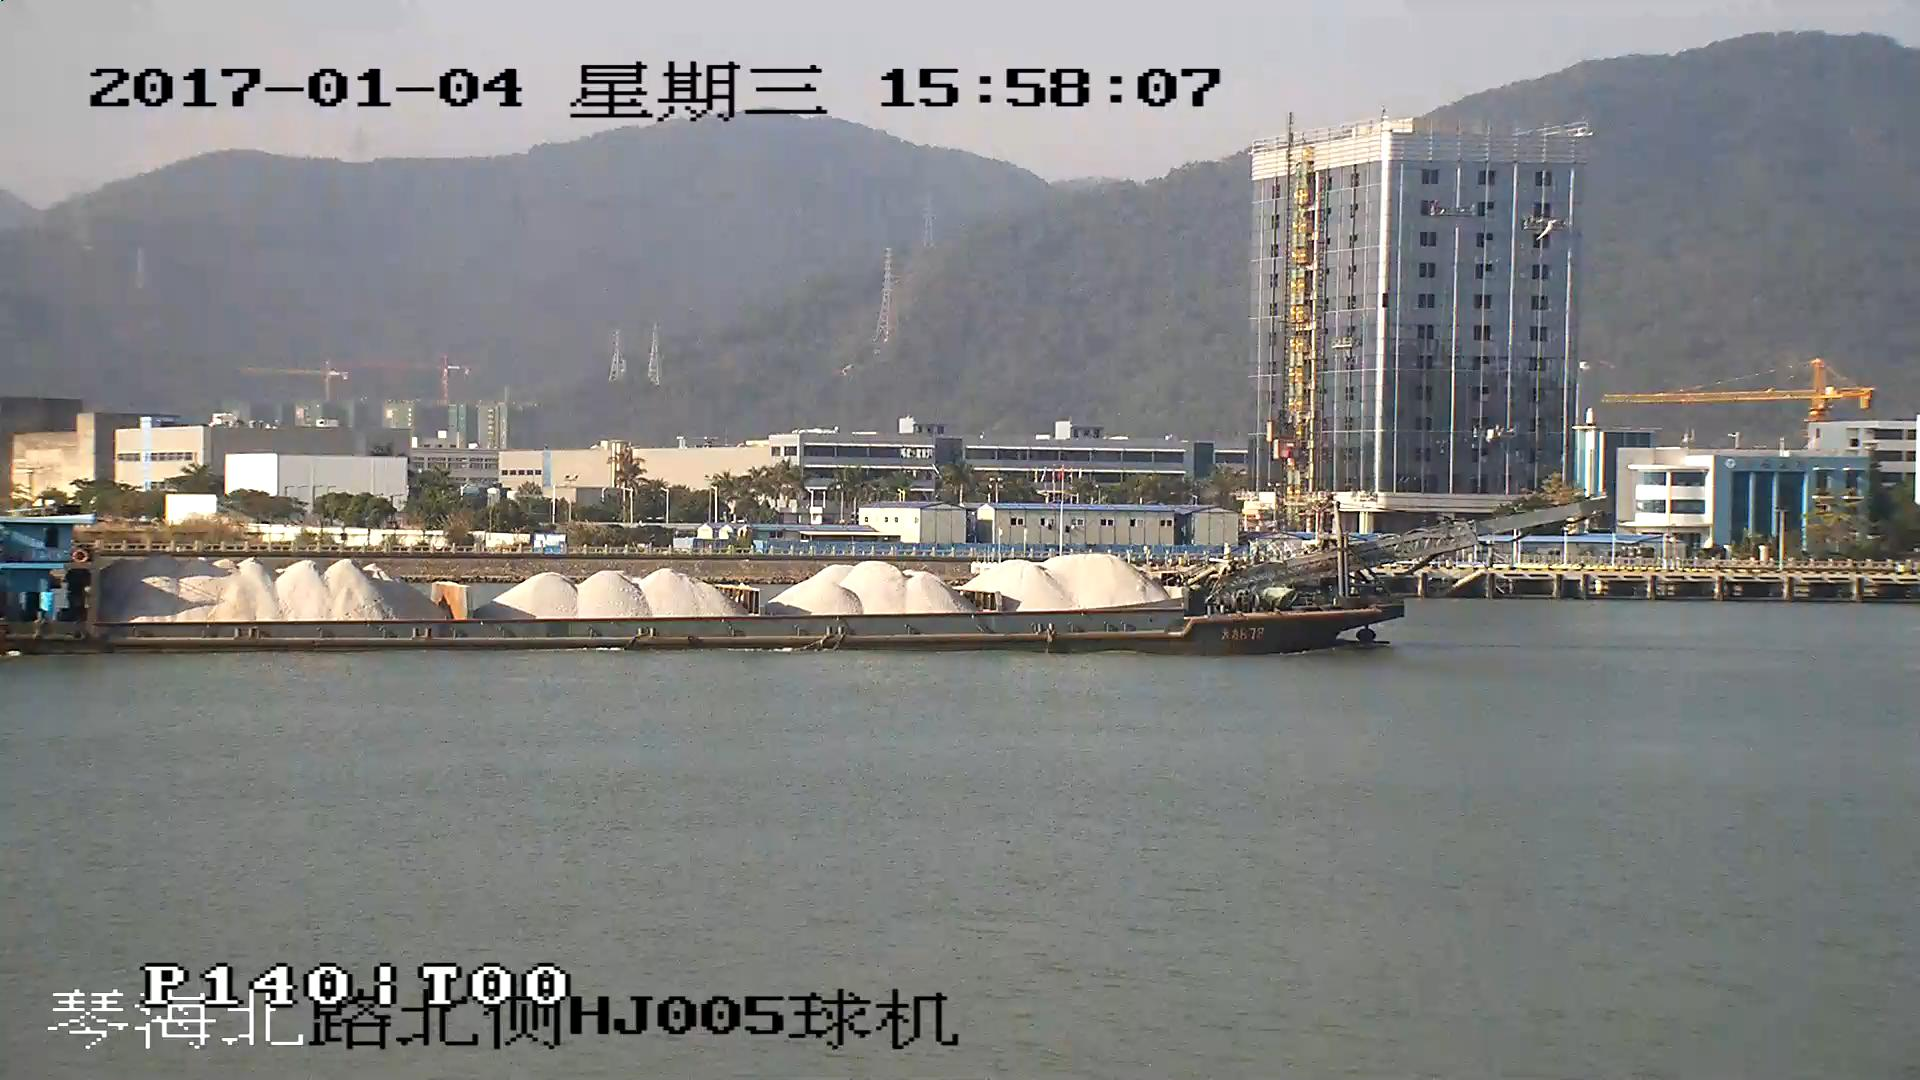ore carrier: (1, 497, 1595, 652)
